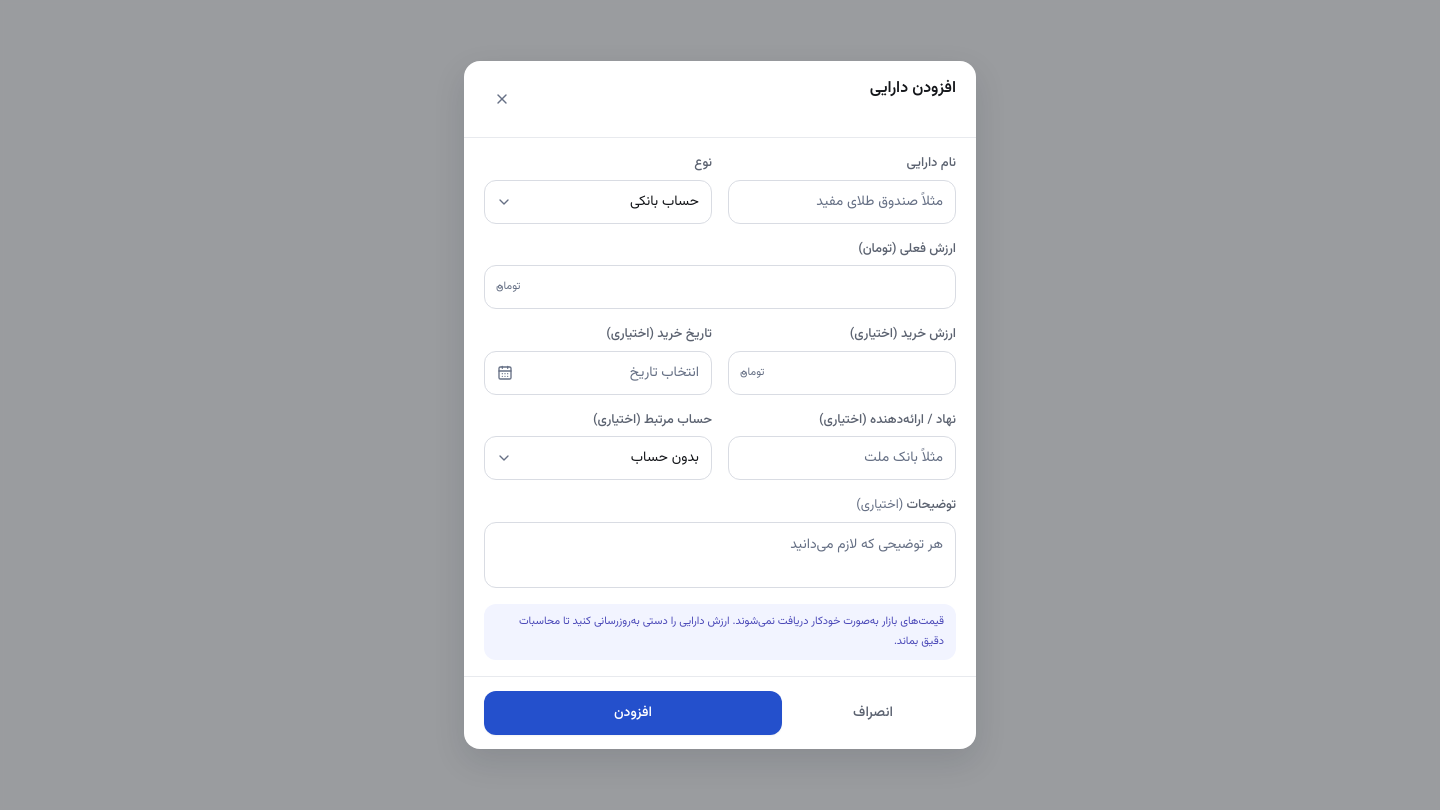
Test: AssetForm › shows a live nominal return and never implies a market price
Type "150000000" into the field labelled "ارزش فعلی (تومان)".
click(720, 287); type("150000000")  # box left=484, top=265, right=956, bottom=309
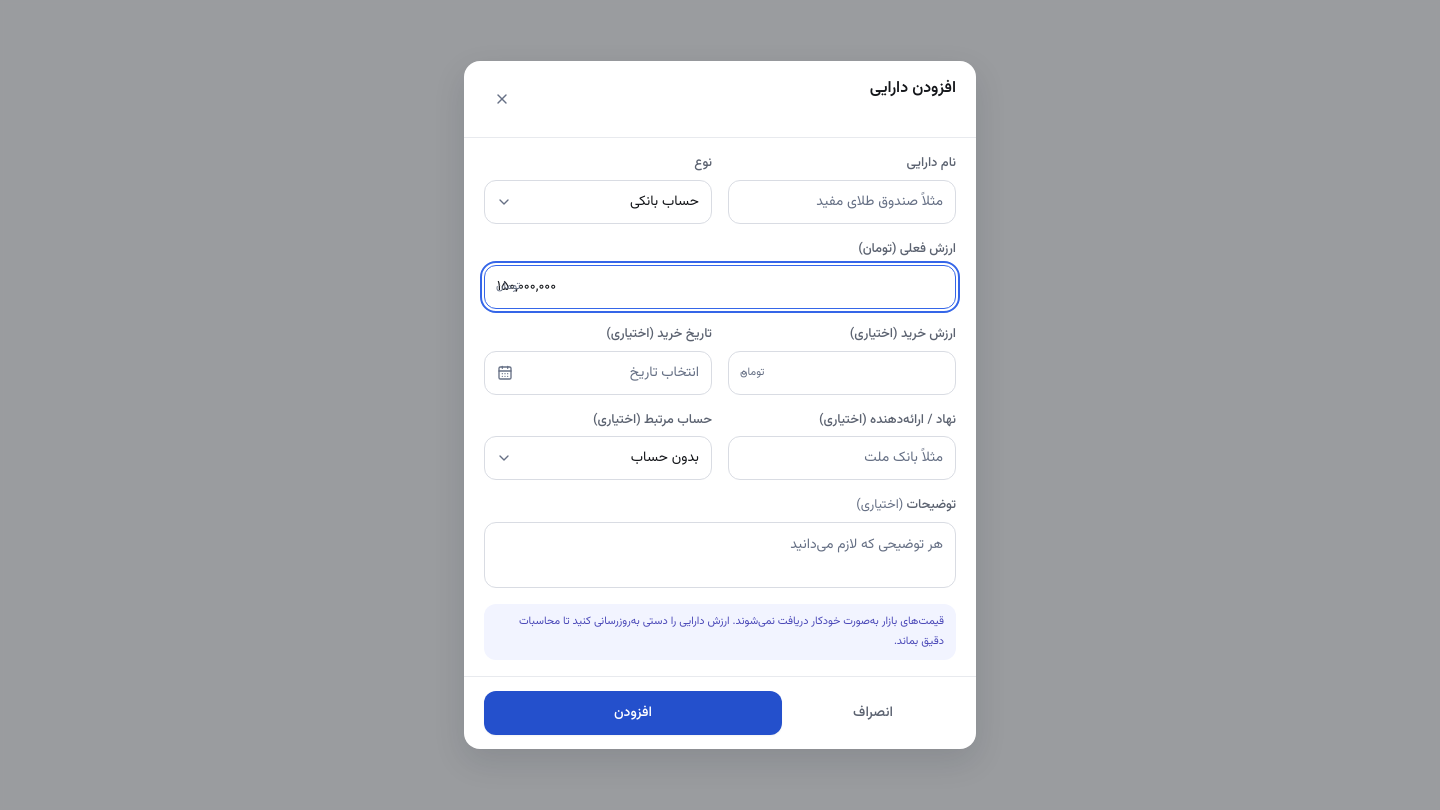
Type "120000000" into the field labelled "ارزش خرید (اختیاری)".
click(842, 373); type("120000000")  # box left=728, top=351, right=956, bottom=395
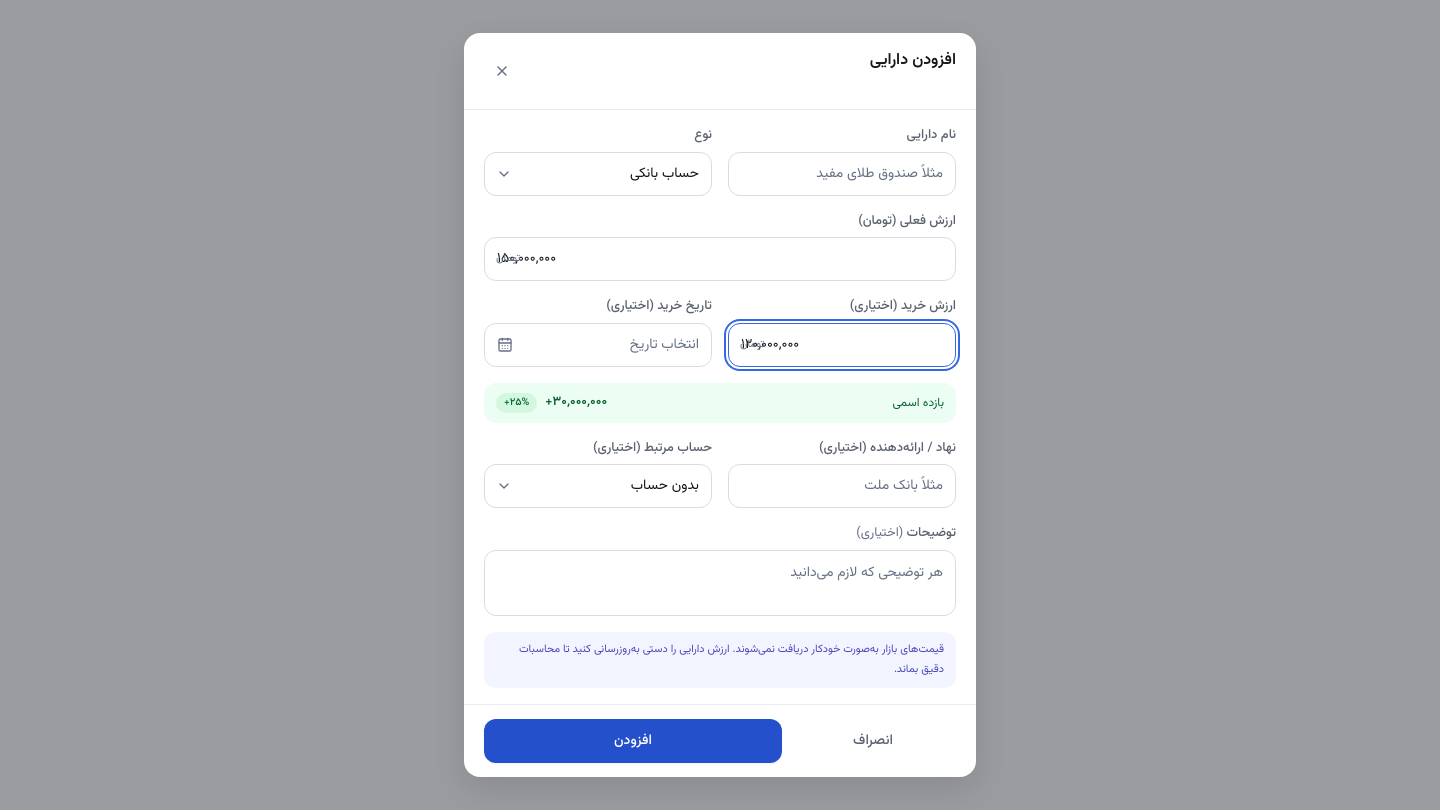
Check: the text "قیمت‌های بازار به‌صورت خودکار دریافت نمی‌شوند" is shown, box left=519, top=641, right=944, bottom=678
Check: the text "بازده اسمی" is shown, box left=892, top=394, right=944, bottom=412
Check: the text "+30,000,000" is shown, box left=545, top=393, right=607, bottom=412
